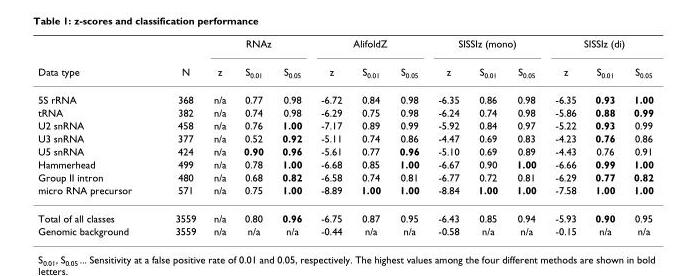table: (37, 37, 653, 236)
table column: (37, 37, 152, 236), (152, 37, 204, 236), (310, 37, 350, 236), (428, 37, 468, 236), (545, 37, 585, 236), (350, 37, 389, 236), (389, 37, 428, 236), (506, 37, 545, 236), (234, 37, 272, 236), (272, 37, 310, 236), (468, 37, 506, 236), (585, 37, 623, 236), (204, 37, 234, 236), (623, 37, 653, 236)
table column header: (37, 37, 653, 86)
table row: (37, 57, 653, 86), (37, 203, 653, 224), (37, 37, 653, 57), (37, 183, 653, 203), (37, 86, 653, 105), (37, 105, 653, 118), (37, 118, 653, 131), (37, 131, 653, 144), (37, 144, 653, 157), (37, 157, 653, 170), (37, 170, 653, 183), (37, 224, 653, 236)
table spanning cell: (37, 37, 152, 86), (152, 37, 204, 86), (310, 37, 428, 57), (428, 37, 545, 57), (545, 37, 653, 57), (204, 37, 310, 57)
